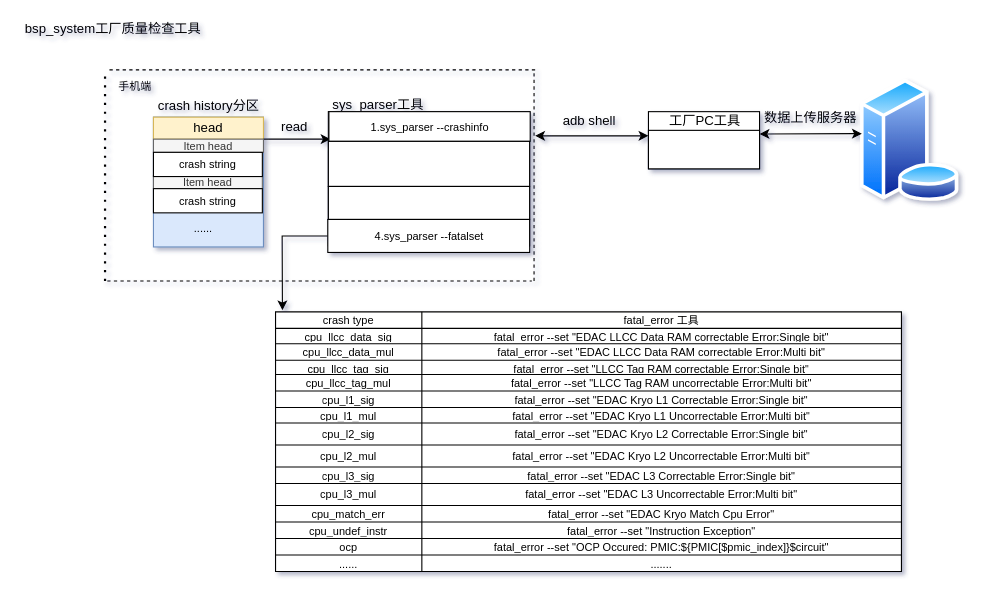
Image size: 985x597. Some labels were removed from this diagram. The box of each missing label's shape, as (x1, y1, x2, y2) in pixels:
2.sys_parser --crashcheck: (327, 140, 530, 186)
3.sys_parser --fatalcheck: (327, 185, 530, 219)
读取手机端 .xml文件并解析处理: (647, 129, 760, 169)
